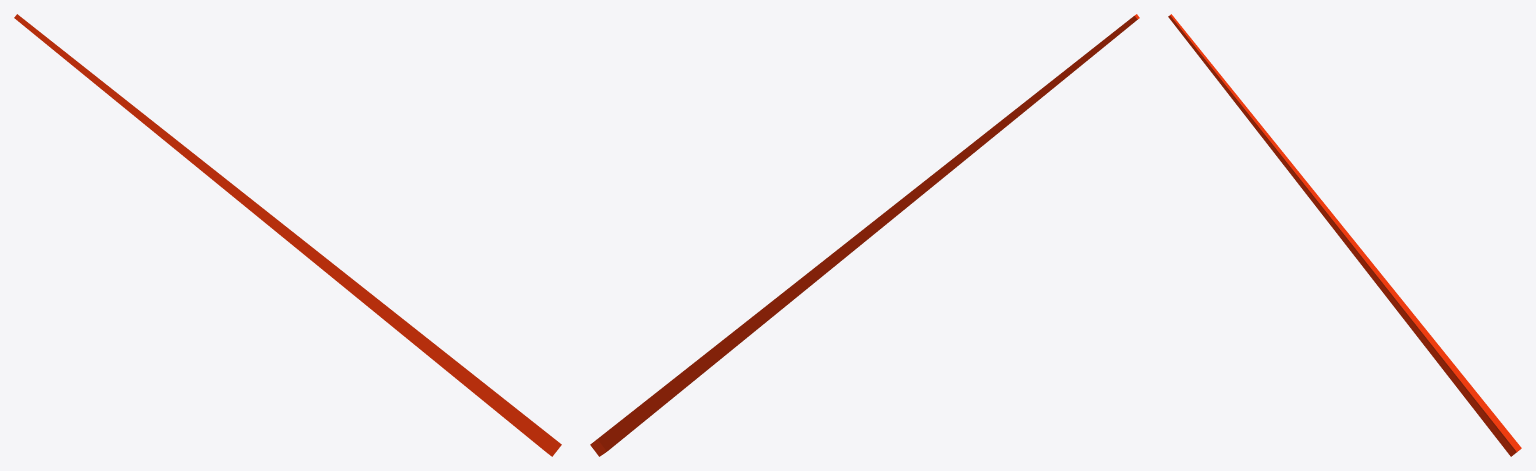
The model's file is Event_420604493_EBrechit_20.fbx.
The picture shows the model from 3 angles, left to right: view 1: azimuth 30°, elevation 25°; view 2: azimuth 150°, elevation 25°; view 3: azimuth 330°, elevation 25°; orthographic projection. The views are drawn at different scales.
Parts seen in each view (by area): view 1: Model; view 2: Model; view 3: Model.
Part boxes in pixels (box(x1,y1,x2,y2)): Model: box(14, 14, 561, 456); Model: box(590, 14, 1139, 456); Model: box(1168, 14, 1521, 456).
Bounding box in the file's own units: 7.37 × 7.37 × 0.305.
